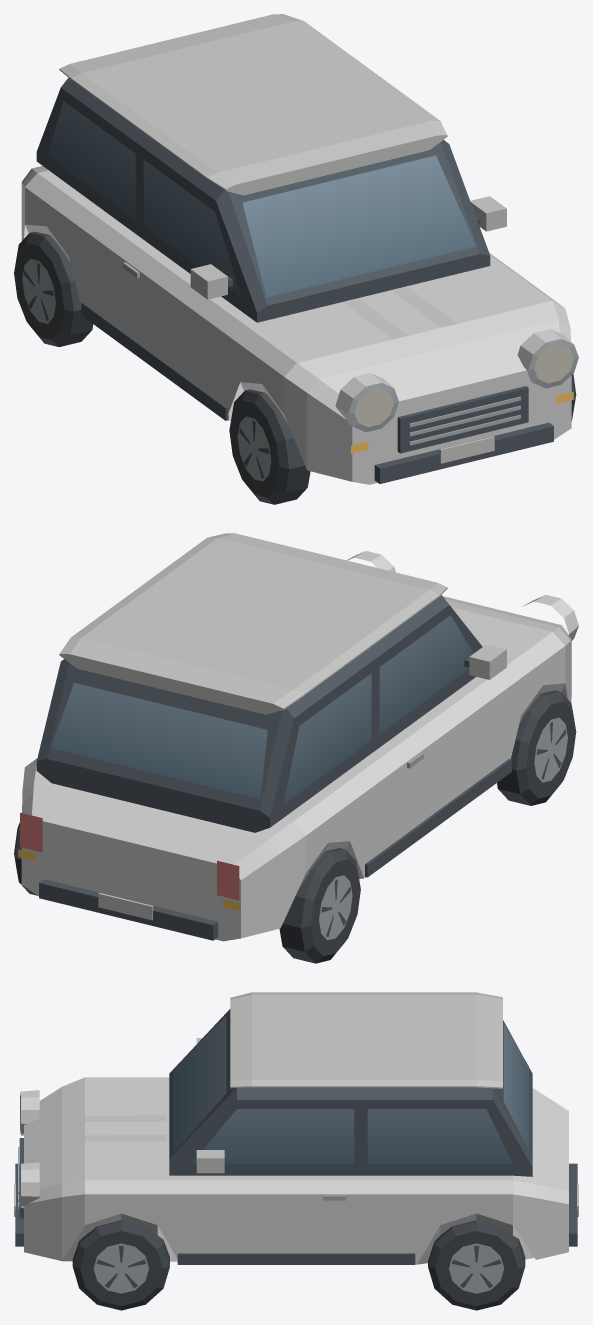
The model's file is mini.glb.
3 renders of one model, top to bottom at view 1: azimuth 30°, elevation 25°; view 2: azimuth 150°, elevation 25°; view 3: azimuth 270°, elevation 25°, orthographic. The views are drawn at different scales.
Visible parts, largest first — view 1: body, wheel_1, wheel_3; view 2: body, wheel_3, wheel_1, brake_1, brake_0; view 3: body, wheel_2, wheel_0.
Boxes of the visible parts, x1=… form: body: x1=21, y1=14, x2=578, y2=484; wheel_1: x1=229, y1=389, x2=310, y2=504; wheel_3: x1=14, y1=231, x2=93, y2=346; body: x1=21, y1=533, x2=578, y2=941; wheel_3: x1=279, y1=848, x2=360, y2=963; wheel_1: x1=497, y1=690, x2=576, y2=805; brake_1: x1=217, y1=860, x2=239, y2=900; brake_0: x1=20, y1=812, x2=42, y2=852; body: x1=14, y1=992, x2=578, y2=1264; wheel_2: x1=428, y1=1220, x2=525, y2=1310; wheel_0: x1=72, y1=1220, x2=169, y2=1310.
Size of the model in its own units: 1.72 by 1.44 by 3.42.
